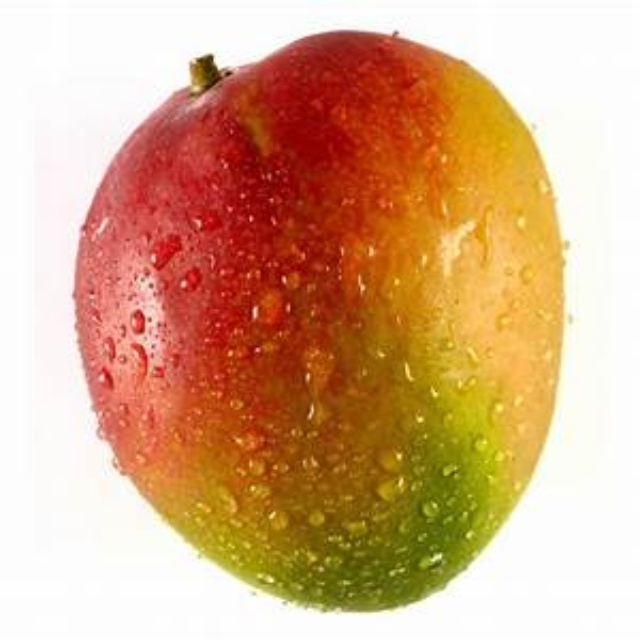mango: (74, 31, 561, 614)
